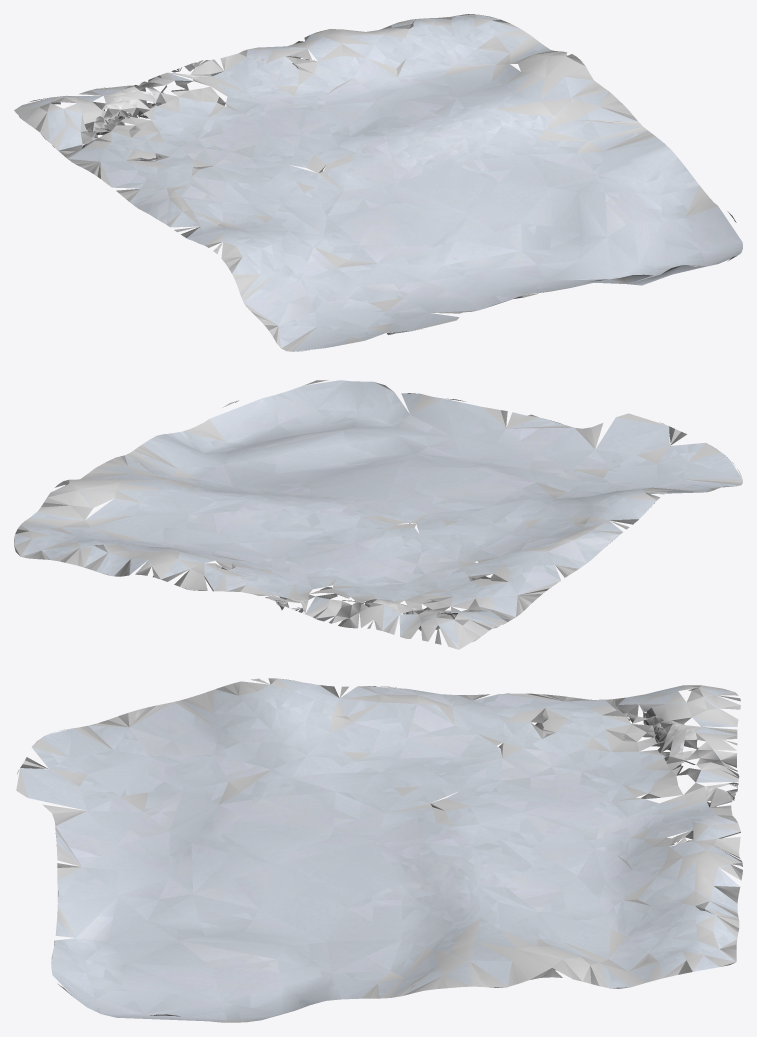
The model's file is map2_shop_floor1.obj.
3 views of the same model, one above another, from view 1: azimuth 30°, elevation 25°; view 2: azimuth 150°, elevation 25°; view 3: azimuth 270°, elevation 25° (orthographic). The views are drawn at different scales.
Visible parts, largest first — view 1: mmGroup0; view 2: mmGroup0; view 3: mmGroup0.
Boxes of the visible parts, box(x1,y1,x2,y2) form: mmGroup0: box(14, 14, 742, 351); mmGroup0: box(14, 380, 742, 649); mmGroup0: box(16, 678, 742, 1022).
Bounding box in the file's own units: 15636 × 2336 × 17025.
1 material, 1 textured.
